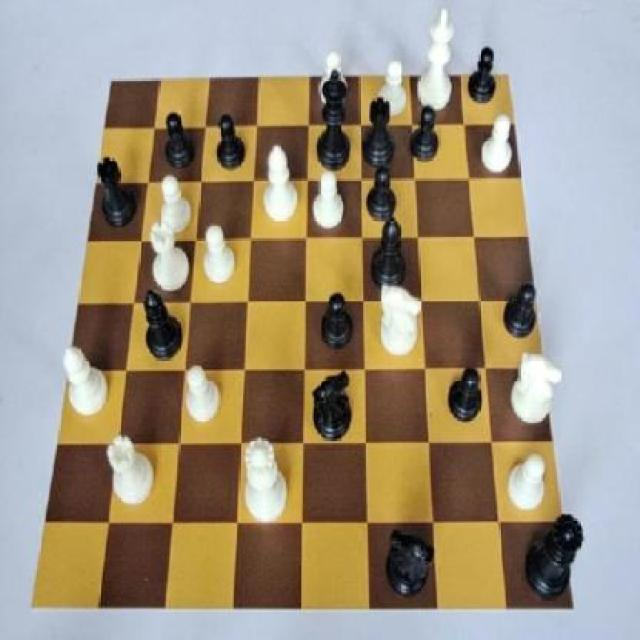bishop: (366, 203, 418, 295), (137, 282, 192, 368)
black-bishop: (311, 66, 359, 176)
black-king: (303, 365, 364, 452), (386, 523, 440, 606)
black-knight: (442, 358, 488, 434), (315, 284, 361, 358), (403, 98, 448, 172), (500, 277, 545, 345), (363, 158, 405, 230), (210, 106, 252, 176), (157, 108, 201, 172), (465, 40, 502, 112)
black-pawn: (520, 494, 592, 614)
black-queen: (92, 151, 143, 235), (358, 88, 402, 177)
black-rook: (54, 338, 117, 421), (260, 136, 303, 230)
white-bishop: (408, 1, 472, 126)
white-king: (371, 277, 432, 369), (506, 344, 566, 436)
white-knight: (503, 438, 552, 520), (182, 357, 228, 428), (308, 164, 352, 233), (156, 168, 197, 239), (479, 106, 516, 184), (200, 223, 240, 291), (316, 45, 354, 112), (376, 54, 412, 120)
white-pawn: (237, 425, 294, 532)
white-queen: (103, 424, 161, 510), (143, 214, 197, 298)
